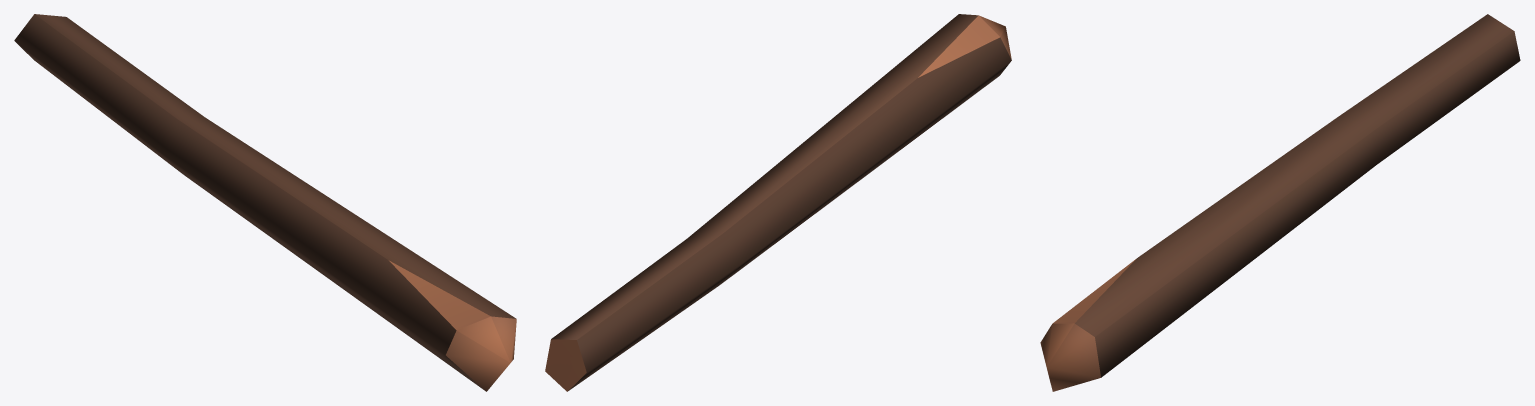
Rendered from Tree_Log_2B.fbx.
3 views of the same model, side by side, from view 1: azimuth 30°, elevation 25°; view 2: azimuth 150°, elevation 25°; view 3: azimuth 330°, elevation 25° (orthographic). The views are drawn at different scales.
Parts seen in each view (by area): view 1: Tree_Log_2B; view 2: Tree_Log_2B; view 3: Tree_Log_2B.
Boxes of the visible parts, x1=… form: Tree_Log_2B: x1=14, y1=14, x2=516, y2=391; Tree_Log_2B: x1=545, y1=14, x2=1011, y2=391; Tree_Log_2B: x1=1040, y1=14, x2=1520, y2=391.
Bounding box in the file's own units: 0.3037 × 0.295 × 3.76.
